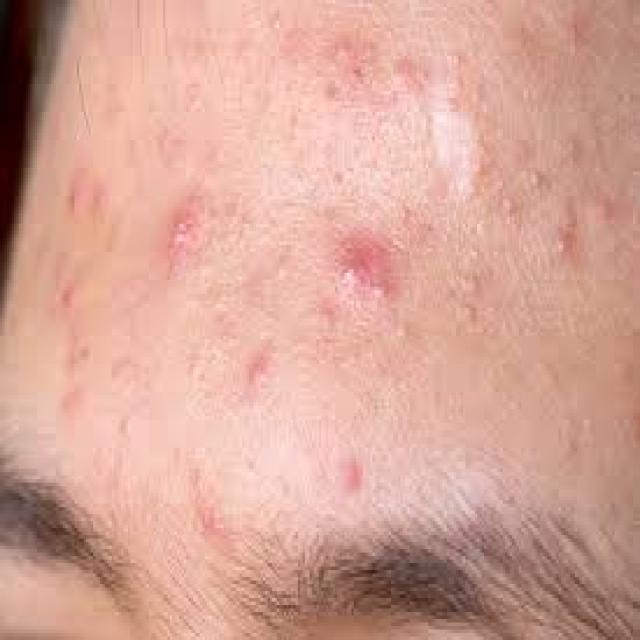Acne: (339, 228, 397, 310), (164, 198, 208, 260), (332, 35, 371, 89), (241, 352, 279, 398), (338, 452, 368, 500), (196, 500, 227, 542), (550, 221, 578, 266), (55, 277, 79, 315), (563, 14, 586, 48)
